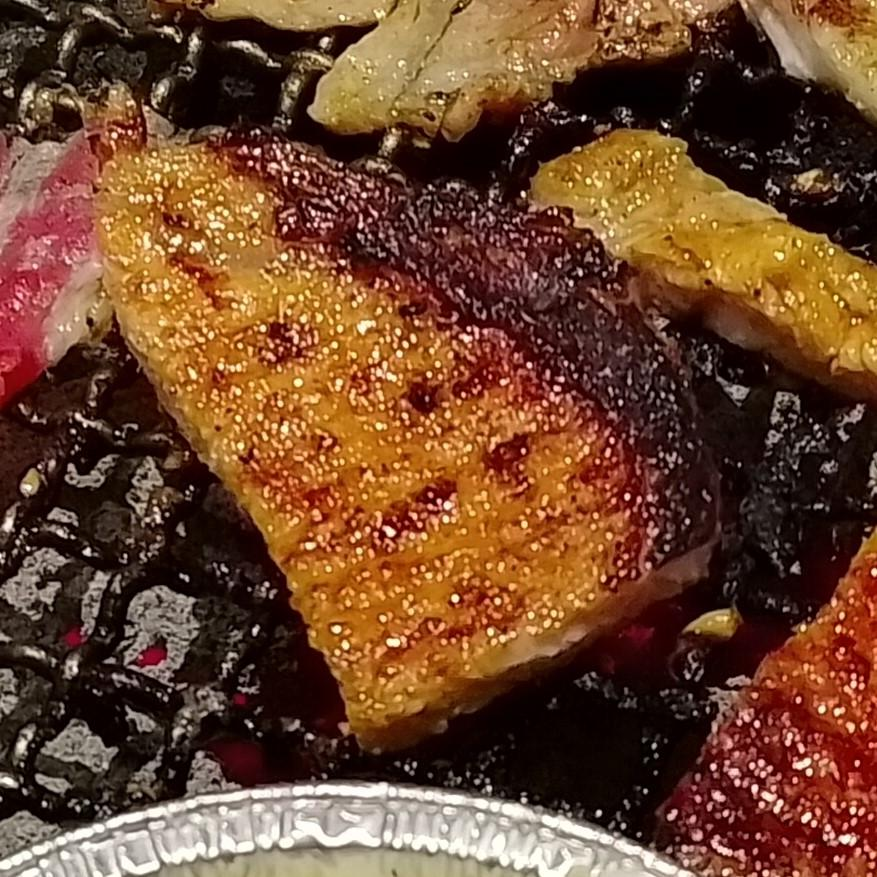Overcooked: (84, 88, 718, 750)
